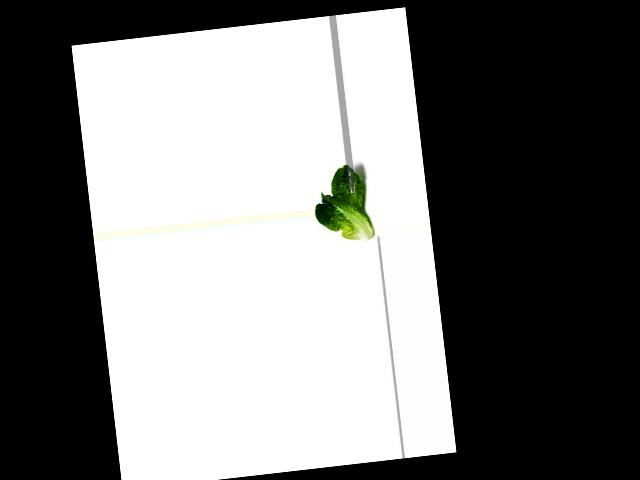lettuce: (309, 160, 371, 247)
